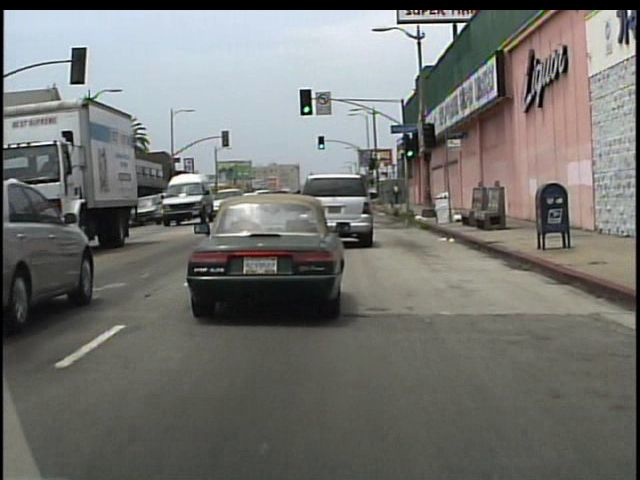person: (393, 182, 403, 206)
